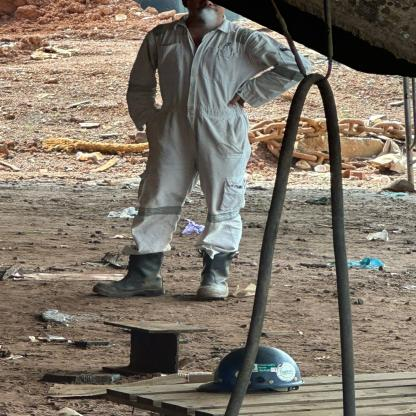bota: (91, 248, 167, 296), (192, 249, 236, 302)
